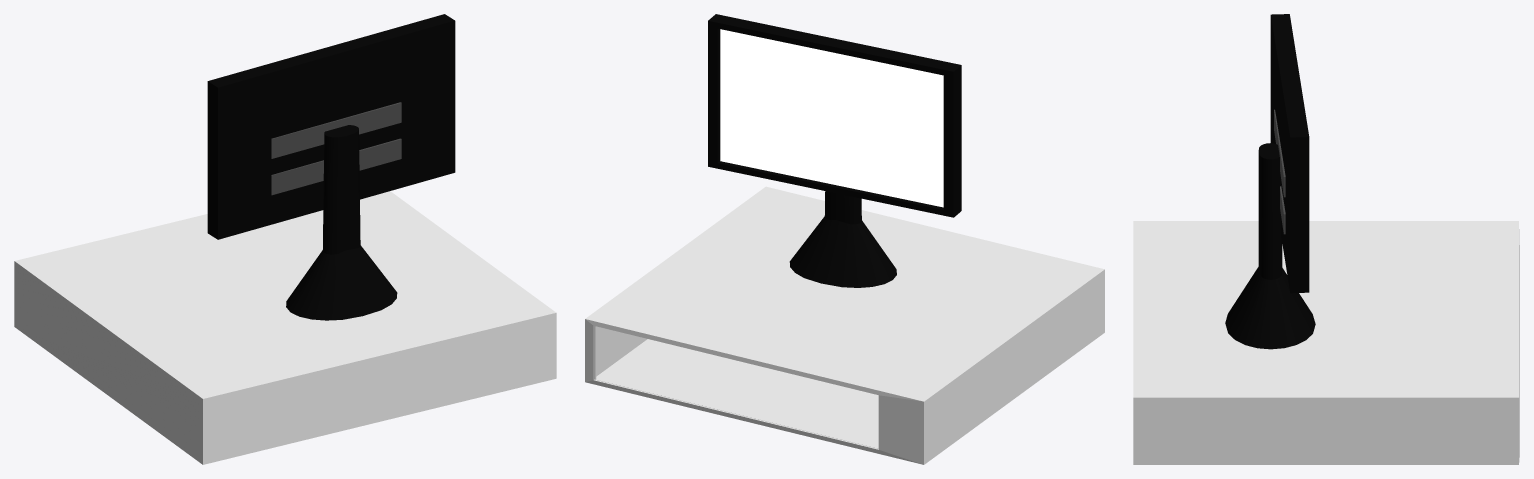
The model's file is screen.glb.
The picture shows the model from 3 angles, left to right: view 1: azimuth 30°, elevation 25°; view 2: azimuth 150°, elevation 25°; view 3: azimuth 270°, elevation 25°; orthographic projection. The views are drawn at different scales.
Parts seen in each view (by area): view 1: Register_Palette_0; view 2: Register_Palette_0; view 3: Register_Palette_0.
Boxes of the visible parts, <box> form: Register_Palette_0: <box>14,14,556,464</box>; Register_Palette_0: <box>585,14,1104,464</box>; Register_Palette_0: <box>1133,14,1519,464</box>.
Size of the model in its own units: 3.78 by 3.14 by 3.49.
2 materials, 1 textured.
